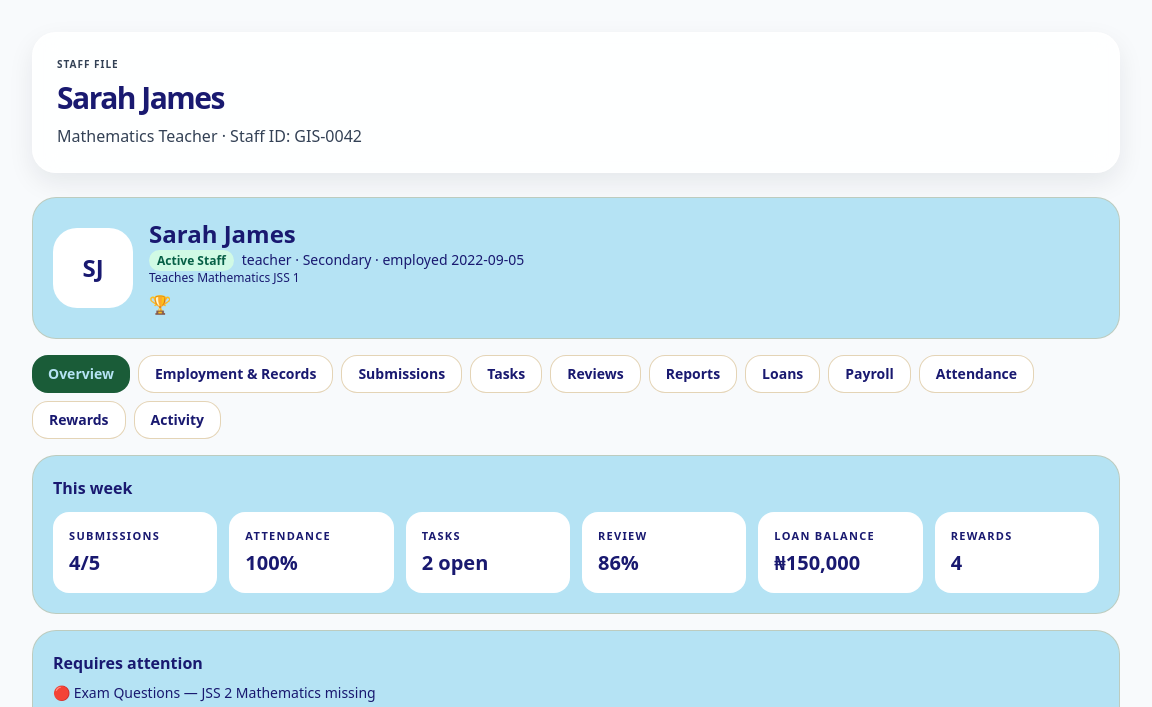
Test: the borrower reports a payment, which then waits for confirmation
The image size is (1152, 707).
Click the button "Loans": (783, 374) [745, 355, 820, 393]
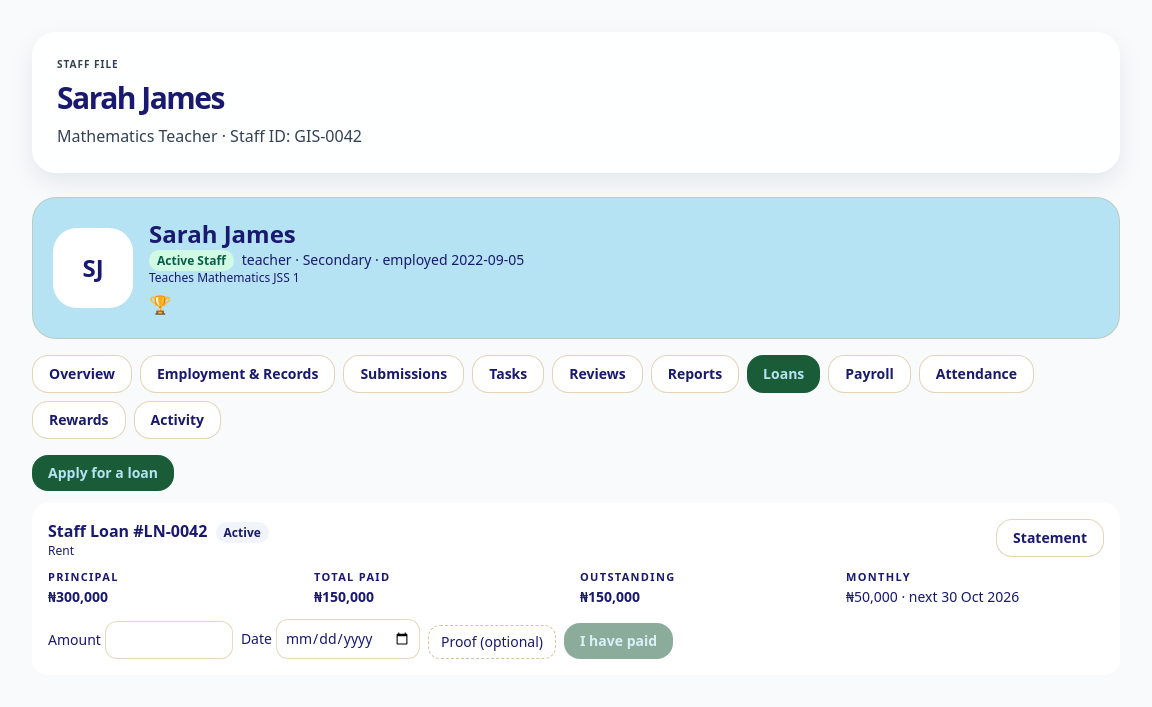
Expected: the text "Staff Loan #LN-0042 Active" is shown, [48, 519, 269, 543]
In the number field labelled "Amount": (169, 640) [105, 621, 233, 659], type "50000"
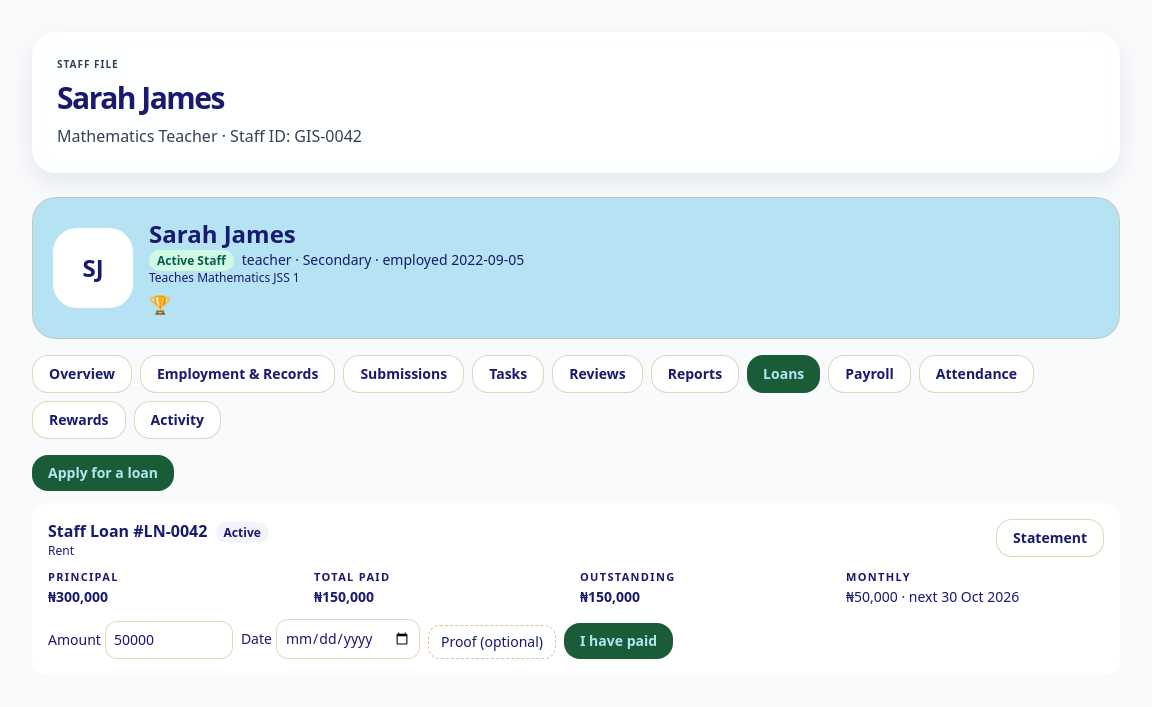
Click the button "I have paid": (619, 641) [564, 623, 673, 659]
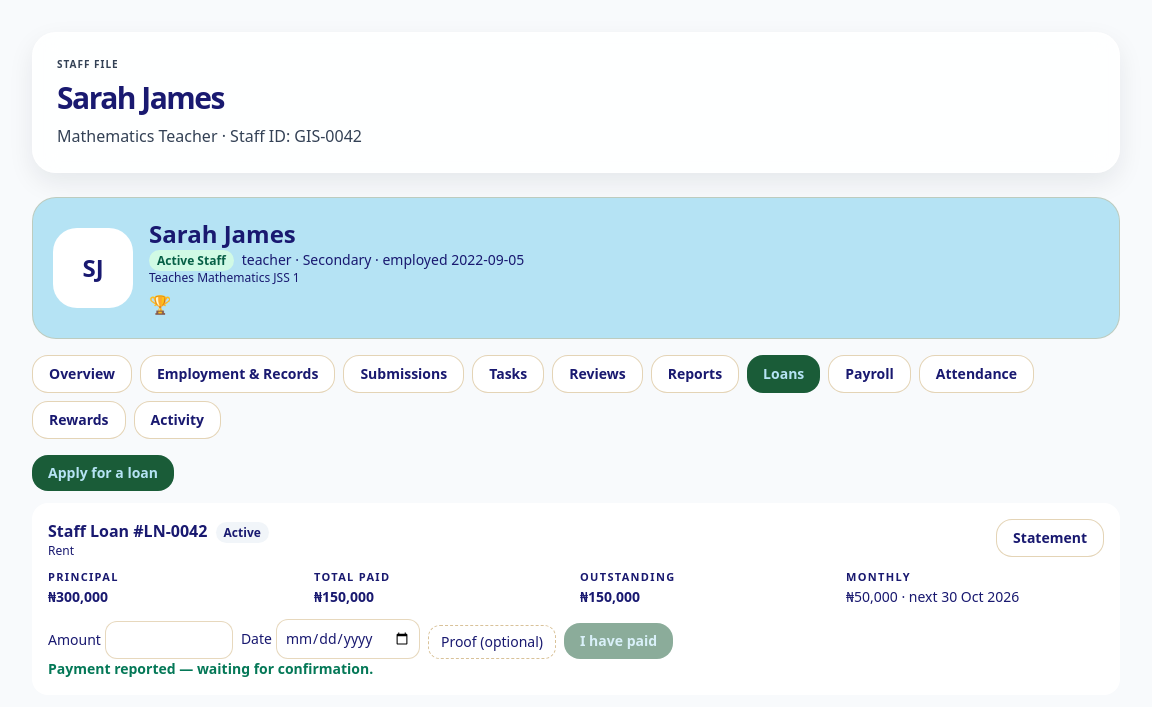
Expected: the text "Payment reported — waiting for confirmation." is shown, [48, 659, 373, 678]
